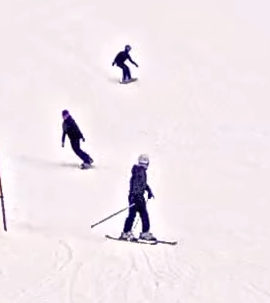skier: (87, 150, 185, 255)
snowboarder: (53, 101, 103, 174), (104, 37, 147, 91)
